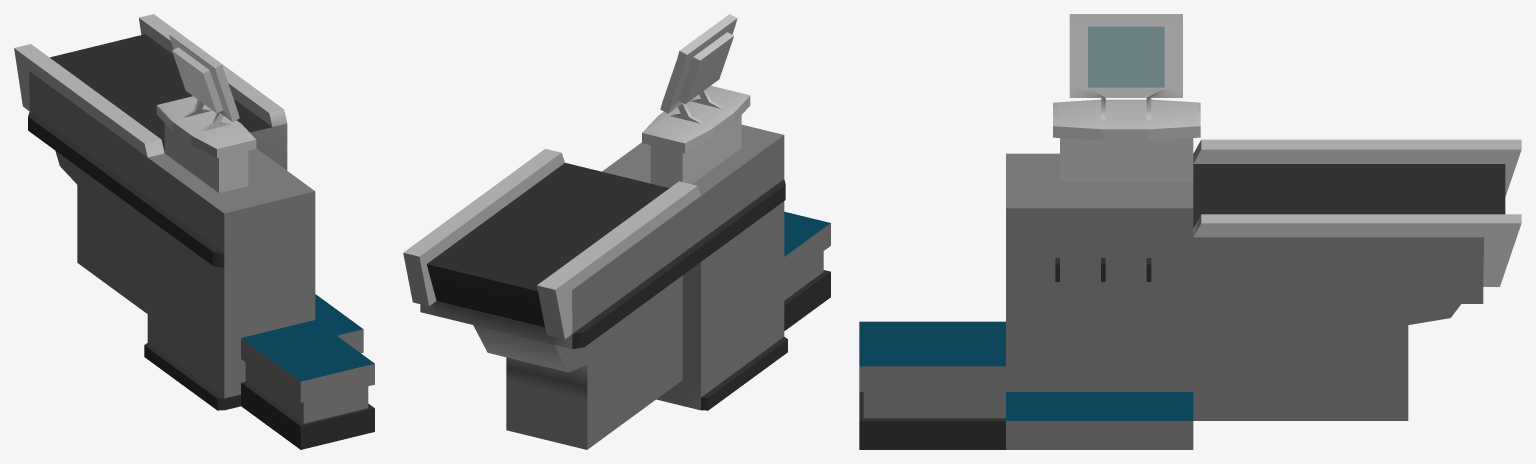
The model's file is CheckOut counter.fbx.
3 renders of one model, left to right at view 1: azimuth 30°, elevation 25°; view 2: azimuth 150°, elevation 25°; view 3: azimuth 270°, elevation 25°, orthographic. The views are drawn at different scales.
Parts seen in each view (by area): view 1: pCube50; view 2: pCube50; view 3: pCube50.
Boxes of the visible parts, x1,y1,x2,y2 form: pCube50: (14, 14, 374, 449); pCube50: (403, 14, 830, 449); pCube50: (859, 14, 1521, 449).
Bounding box in the file's own units: 2.86 × 6.01 × 9.15.
3 materials, 1 textured.
